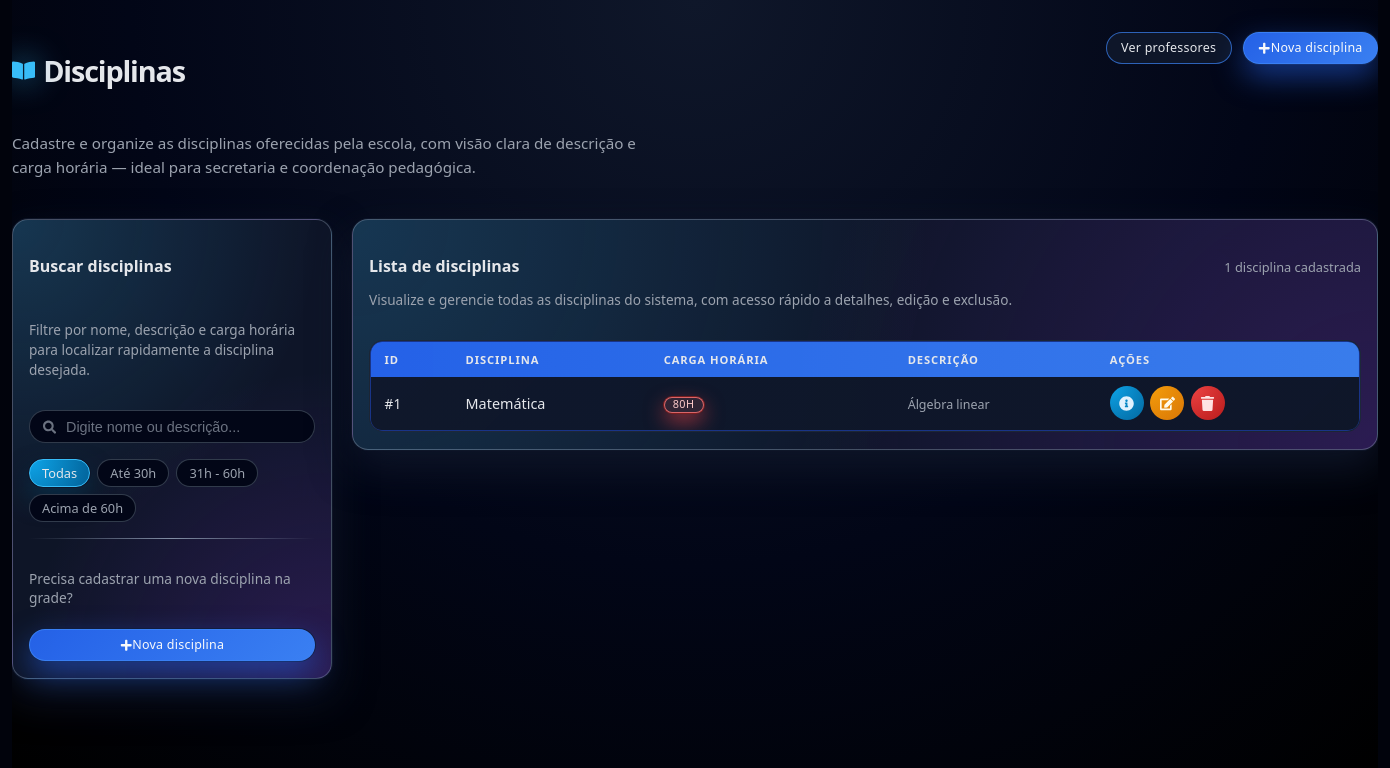
SubjectsPage (dashboard) › mostra estado vazio quando não há disciplinas após o filtro
The image size is (1390, 768).
Type "disciplina inexistente" into the field with placeholder "Digite nome ou descrição...".
click(183, 427); type("disciplina inexistente")  # box [64,418,301,436]
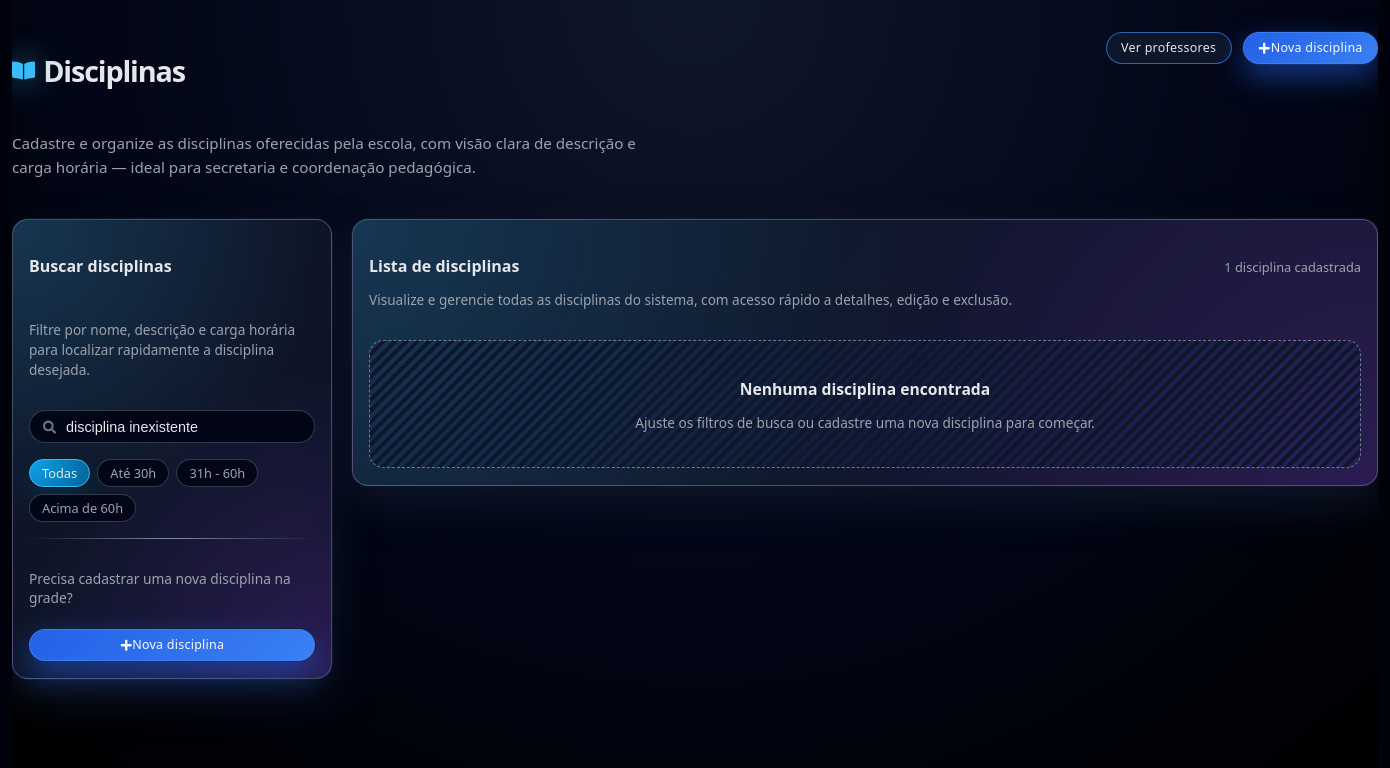
Expected: the text "Nenhuma disciplina encontrada" is shown, [740,378,990,400]
